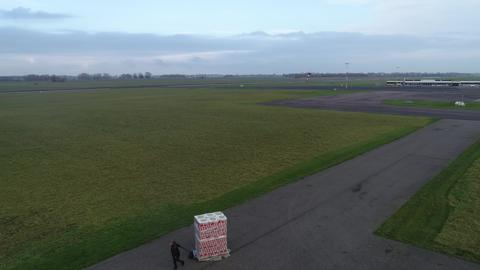RockwoolPallet: (193, 216, 229, 258)
